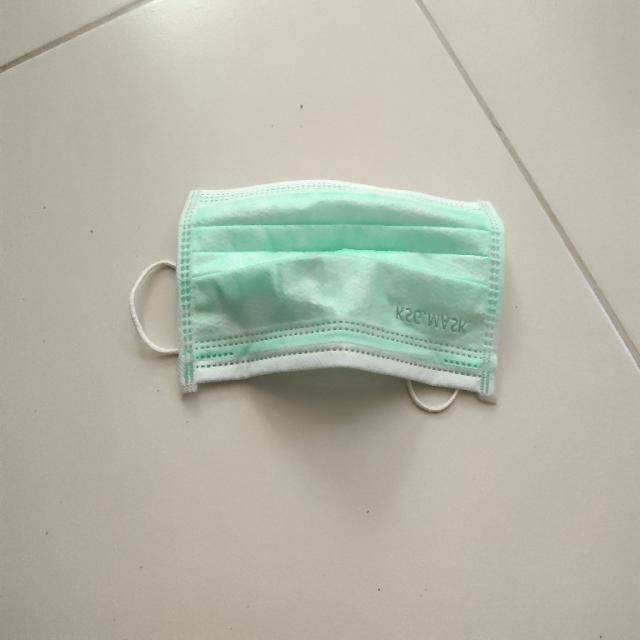face mask: (130, 172, 504, 422)
